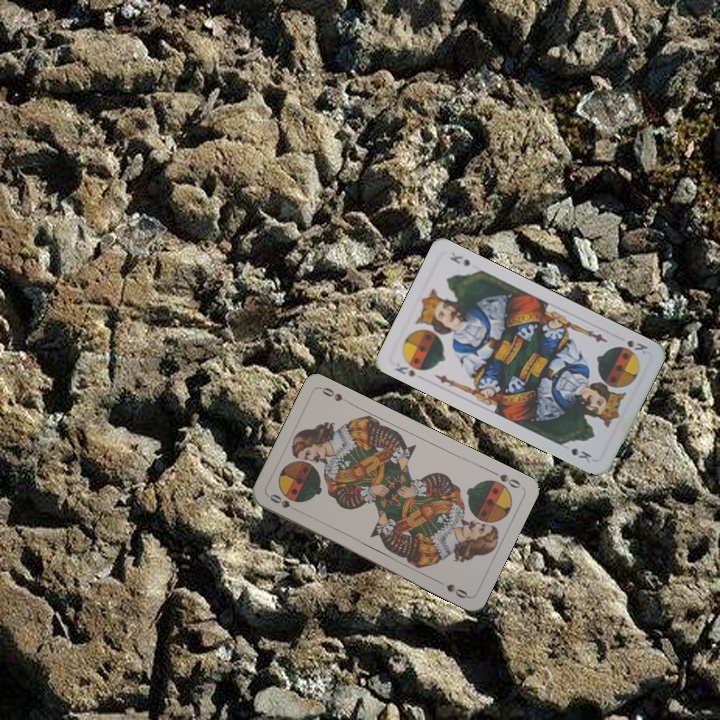SK: (390, 356, 428, 379), (623, 336, 651, 357)
SO: (265, 490, 303, 515), (487, 466, 524, 491)
